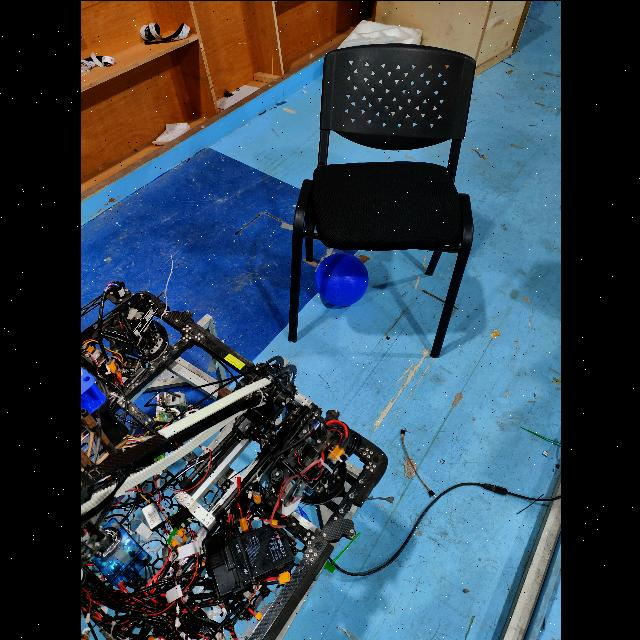B: (314, 252, 368, 306)
